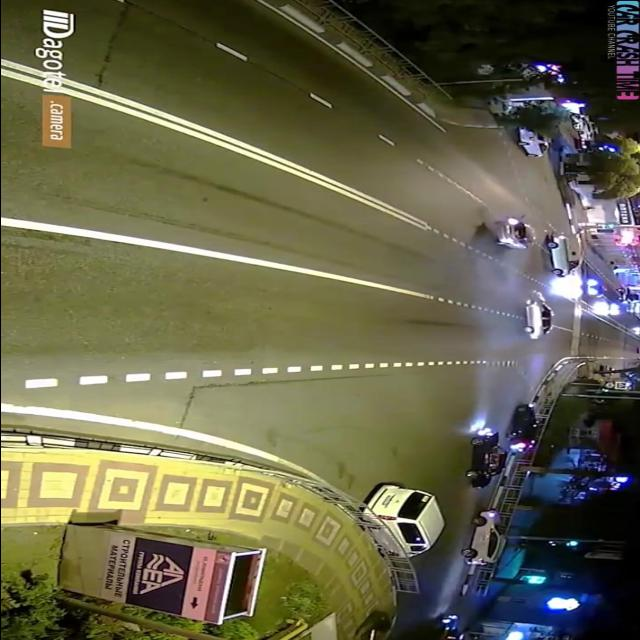accident: (480, 215, 561, 345)
